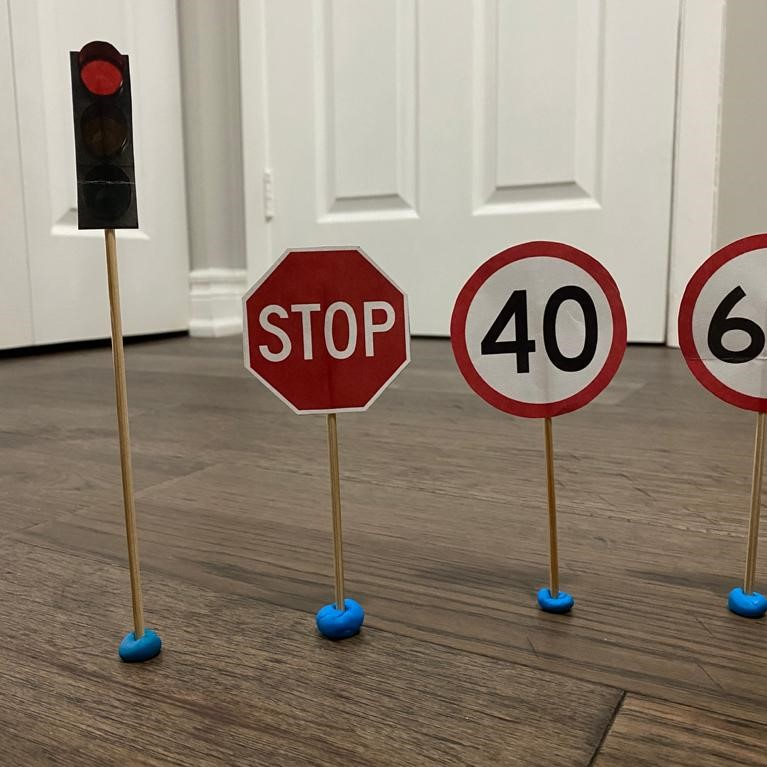Red Traffic Light: (66, 36, 142, 235)
Speed Limit 40: (447, 240, 631, 420)
Stop Sign: (238, 243, 416, 426)
